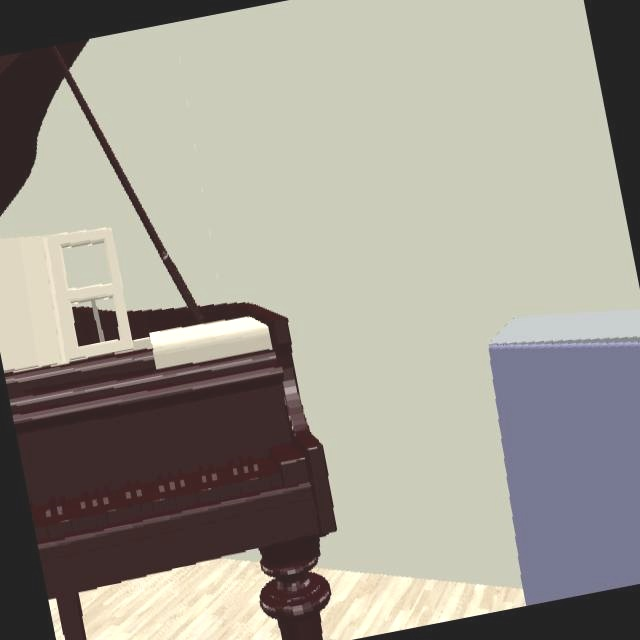cabinet: (490, 310, 640, 601)
